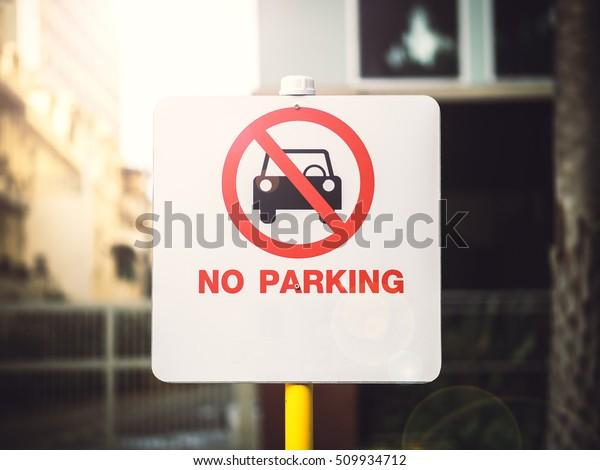No Parking: (188, 100, 422, 300)
